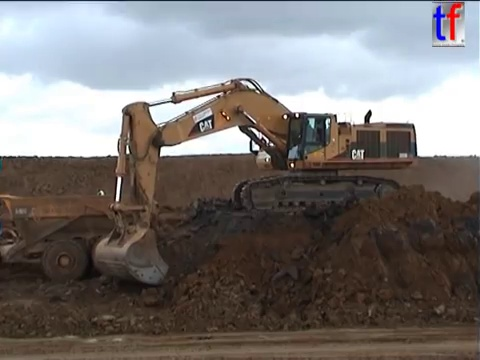excavator: (89, 75, 420, 285)
truck: (1, 190, 161, 284)
worker: (93, 184, 107, 211)
